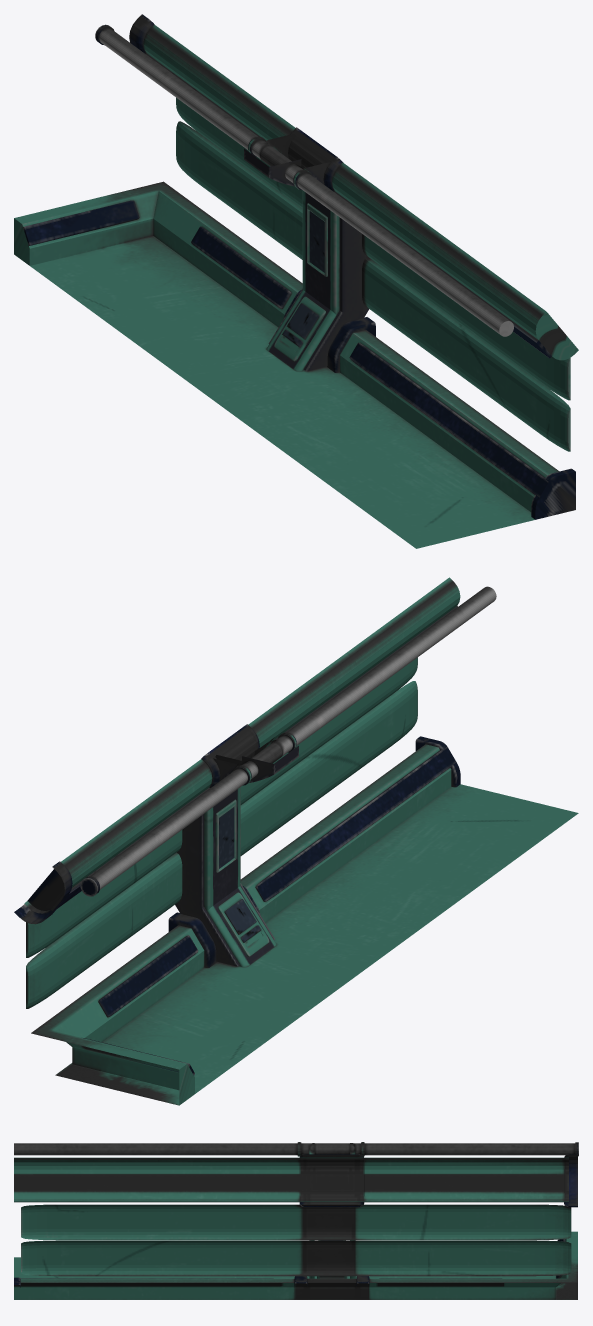
File: 2 yuka2.fbx
3 renders of one model, top to bottom at view 1: azimuth 30°, elevation 25°; view 2: azimuth 150°, elevation 25°; view 3: azimuth 270°, elevation 25°, orthographic. The views are drawn at different scales.
Visible parts, largest first — view 1: polySurface355, polySurface359, polySurface361, polySurface303, polySurface311; view 2: polySurface355, polySurface359, polySurface361, polySurface303, polySurface311; view 3: polySurface355, polySurface361, polySurface359.
Boxes of the visible parts, x1,y1,x2,y2 form: polySurface355: [14, 24, 578, 548]; polySurface359: [23, 14, 575, 519]; polySurface361: [99, 28, 513, 336]; polySurface303: [244, 142, 369, 371]; polySurface311: [282, 211, 324, 347]; polySurface355: [24, 577, 578, 1105]; polySurface359: [14, 606, 460, 1075]; polySurface361: [90, 586, 496, 889]; polySurface303: [175, 737, 298, 966]; polySurface311: [219, 807, 261, 942]; polySurface355: [14, 1142, 577, 1299]; polySurface361: [14, 1143, 575, 1155]; polySurface359: [14, 1142, 578, 1288].
Bounding box in the file's own units: 14.62 × 17.62 × 61.31.
1 material, 1 textured.
